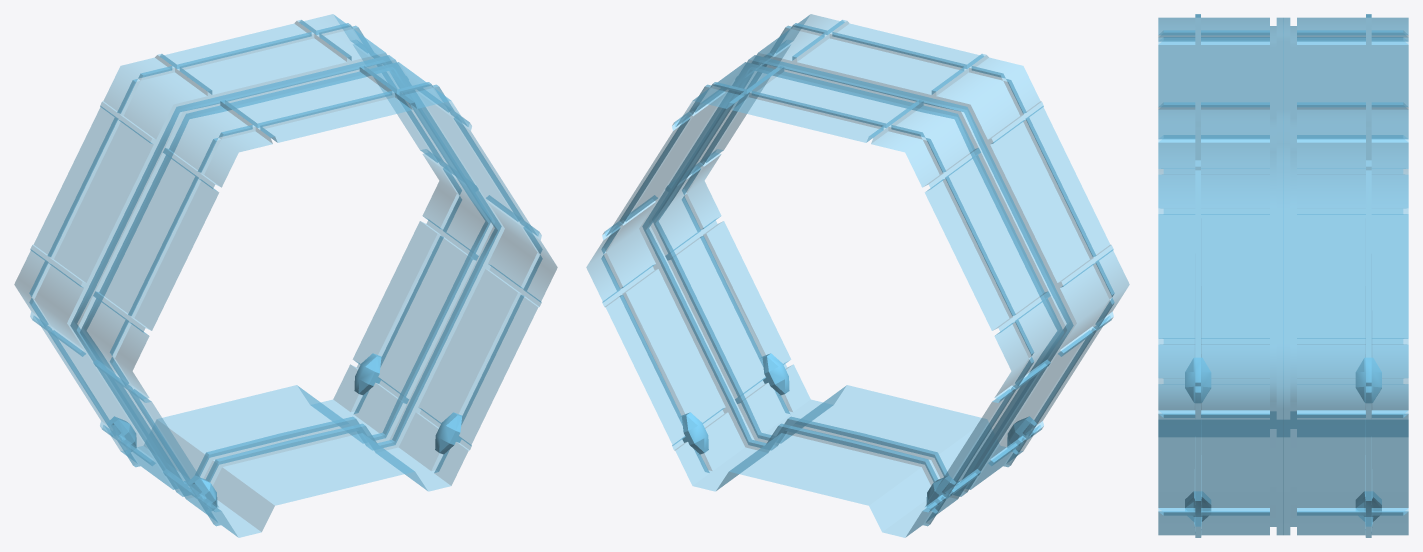
The picture shows the model from 3 angles, left to right: view 1: azimuth 30°, elevation 25°; view 2: azimuth 150°, elevation 25°; view 3: azimuth 270°, elevation 25°; orthographic projection. The views are drawn at different scales.
Visible parts, largest first — view 1: Parts007-003; view 2: Parts007-003; view 3: Parts007-003.
Boxes of the visible parts, x1,y1,x2,y2 form: Parts007-003: (14, 14, 557, 537); Parts007-003: (586, 14, 1129, 537); Parts007-003: (1158, 14, 1408, 537).
Size of the model in its own units: 489 by 424 by 233.
